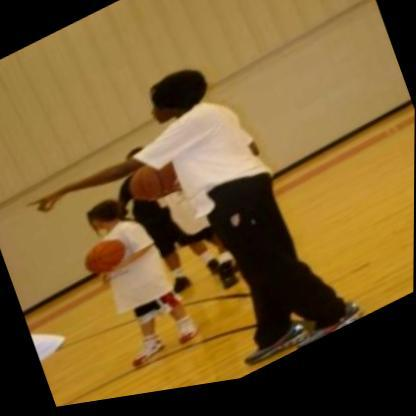basketball: (123, 150, 183, 216), (84, 237, 128, 281)
